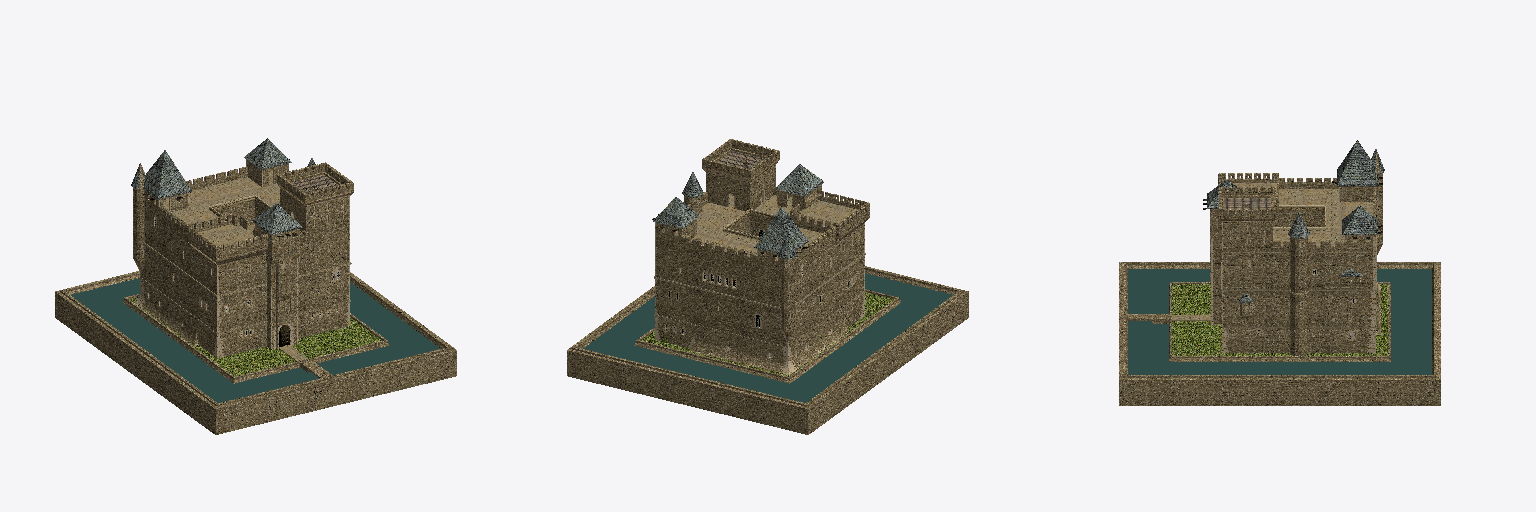
3 renders of one model, left to right at view 1: azimuth 30°, elevation 25°; view 2: azimuth 150°, elevation 25°; view 3: azimuth 270°, elevation 25°, orthographic.
Parts seen in each view (by area): view 1: supercastle-COM-Component_25-78431-BrickOldSharp0184_1_S1, supercastle-COM-Component_25-78431-Translucent_Glass_Blue, supercastle-COM-Component_4-78432-BrickOldSharp0184_1_S1, supercastle-COM-Component_4-78432-RooftilesSlate0051_3_S1, supercastle-COM-Component_25-78431-Ivy0070_7_S1, supercastle-COM-3rd_floor-78433-MarbleTiles0040_1_S1, supercastle-COM-Component_8-45917-BrickOldSharp0184_1_S1, supercastle-COM-Component_21-32912-BrickOldSharp0184_1_S1, supercastle-COM-Component_23-31082-BrickOldSharp0184_1_S1, supercastle-COM-Component_3-65558-BrickOldSharp0184_1_S1, supercastle-COM-Component_5-65557-BrickOldSharp0184_1_S1, supercastle-COM-Component_6-36669-BrickOldSharp0184_1_S1 (+9 smaller); view 2: supercastle-COM-Component_25-78431-BrickOldSharp0184_1_S1, supercastle-COM-Component_25-78431-Translucent_Glass_Blue, supercastle-COM-Component_4-78432-BrickOldSharp0184_1_S1, supercastle-COM-Component_4-78432-RooftilesSlate0051_3_S1, supercastle-COM-Component_11-47750-BrickOldSharp0184_1_S1, supercastle-COM-3rd_floor-78433-MarbleTiles0040_1_S1, supercastle-COM-Component_19-28326-BrickOldSharp0184_1_S1, supercastle-COM-Component_1-62711-BrickOldSharp0184_1_S1, supercastle-COM-Component_15-25229-BrickOldSharp0184_1_S1, supercastle-COM-Component_12-52483-BrickOldSharp0184_1_S1, supercastle-COM-Component_13-55886-BrickOldSharp0184_1_S1, supercastle-COM-Component_18-26774-BrickOldSharp0184_1_S1 (+10 smaller); view 3: supercastle-COM-Component_25-78431-BrickOldSharp0184_1_S1, supercastle-COM-Component_25-78431-Translucent_Glass_Blue, supercastle-COM-Component_4-78432-BrickOldSharp0184_1_S1, supercastle-COM-Component_25-78431-Ivy0070_7_S1, supercastle-COM-Component_4-78432-RooftilesSlate0051_3_S1, supercastle-COM-Component_2-71469-BrickOldSharp0184_1_S1, supercastle-COM-3rd_floor-78433-MarbleTiles0040_1_S1, supercastle-COM-Component_16-22017-BrickOldSharp0184_1_S1, supercastle-COM-Component_14-43663-BrickOldSharp0184_1_S1, supercastle-COM-Component_23-31082-BrickOldSharp0184_1_S1, supercastle-COM-Component_6-36669-BrickOldSharp0184_1_S1, supercastle-COM-Component_15-25229-BrickOldSharp0184_1_S1 (+4 smaller).
Boxes of the visible parts, box(x1,y1,x2,y2) form: supercastle-COM-Component_25-78431-BrickOldSharp0184_1_S1: box(55, 271, 456, 434); supercastle-COM-Component_25-78431-Translucent_Glass_Blue: box(71, 278, 440, 402); supercastle-COM-Component_4-78432-BrickOldSharp0184_1_S1: box(133, 160, 353, 259); supercastle-COM-Component_4-78432-RooftilesSlate0051_3_S1: box(131, 138, 315, 234); supercastle-COM-Component_25-78431-Ivy0070_7_S1: box(130, 297, 381, 376); supercastle-COM-3rd_floor-78433-MarbleTiles0040_1_S1: box(165, 171, 293, 240); supercastle-COM-Component_8-45917-BrickOldSharp0184_1_S1: box(192, 279, 261, 331); supercastle-COM-Component_21-32912-BrickOldSharp0184_1_S1: box(185, 239, 267, 294); supercastle-COM-Component_23-31082-BrickOldSharp0184_1_S1: box(306, 227, 348, 273); supercastle-COM-Component_3-65558-BrickOldSharp0184_1_S1: box(262, 302, 347, 348); supercastle-COM-Component_5-65557-BrickOldSharp0184_1_S1: box(188, 316, 261, 356); supercastle-COM-Component_6-36669-BrickOldSharp0184_1_S1: box(306, 265, 348, 310); supercastle-COM-Component_25-78431-BrickOldSharp0184_1_S1: box(567, 266, 968, 434); supercastle-COM-Component_25-78431-Translucent_Glass_Blue: box(583, 273, 952, 402); supercastle-COM-Component_4-78432-BrickOldSharp0184_1_S1: box(656, 139, 869, 274); supercastle-COM-Component_4-78432-RooftilesSlate0051_3_S1: box(653, 164, 823, 258); supercastle-COM-Component_11-47750-BrickOldSharp0184_1_S1: box(743, 293, 812, 346); supercastle-COM-3rd_floor-78433-MarbleTiles0040_1_S1: box(676, 194, 822, 259); supercastle-COM-Component_19-28326-BrickOldSharp0184_1_S1: box(743, 254, 812, 306); supercastle-COM-Component_1-62711-BrickOldSharp0184_1_S1: box(741, 330, 817, 371); supercastle-COM-Component_15-25229-BrickOldSharp0184_1_S1: box(656, 240, 698, 287); supercastle-COM-Component_12-52483-BrickOldSharp0184_1_S1: box(700, 290, 742, 335); supercastle-COM-Component_13-55886-BrickOldSharp0184_1_S1: box(656, 279, 699, 324); supercastle-COM-Component_18-26774-BrickOldSharp0184_1_S1: box(699, 251, 742, 297); supercastle-COM-Component_25-78431-BrickOldSharp0184_1_S1: box(1119, 262, 1440, 405); supercastle-COM-Component_25-78431-Translucent_Glass_Blue: box(1128, 269, 1431, 374); supercastle-COM-Component_4-78432-BrickOldSharp0184_1_S1: box(1210, 152, 1382, 255); supercastle-COM-Component_25-78431-Ivy0070_7_S1: box(1172, 284, 1387, 355); supercastle-COM-Component_4-78432-RooftilesSlate0051_3_S1: box(1207, 140, 1384, 238); supercastle-COM-Component_2-71469-BrickOldSharp0184_1_S1: box(1273, 324, 1380, 355); supercastle-COM-3rd_floor-78433-MarbleTiles0040_1_S1: box(1247, 189, 1372, 245); supercastle-COM-Component_16-22017-BrickOldSharp0184_1_S1: box(1273, 253, 1324, 292); supercastle-COM-Component_14-43663-BrickOldSharp0184_1_S1: box(1273, 291, 1324, 330); supercastle-COM-Component_23-31082-BrickOldSharp0184_1_S1: box(1223, 240, 1272, 289); supercastle-COM-Component_6-36669-BrickOldSharp0184_1_S1: box(1223, 291, 1272, 326); supercastle-COM-Component_15-25229-BrickOldSharp0184_1_S1: box(1325, 253, 1372, 289).
Size of the model in its own units: 52.59 by 37.72 by 60.61.
Materials: 16 (14 with a texture image).